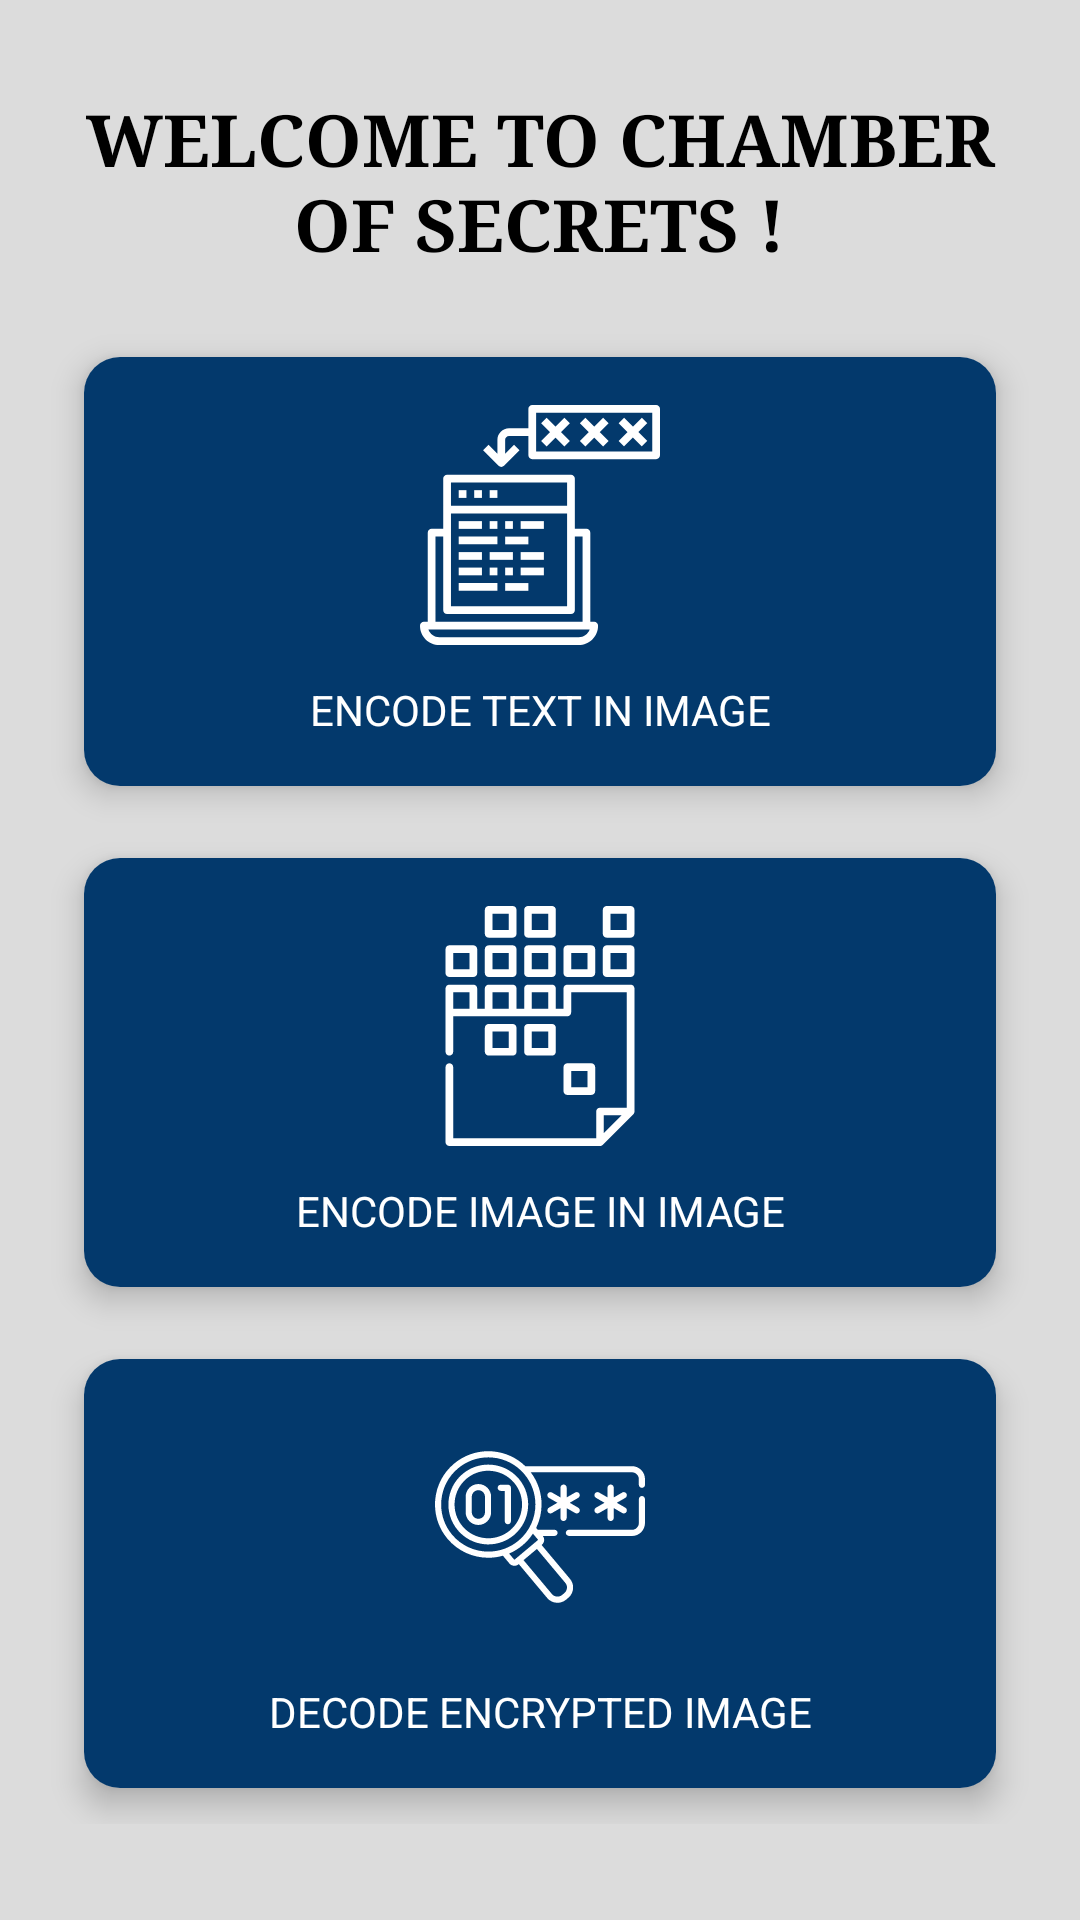

Where to tap for icons on this 1080px x 1920px app screen, as [x,y]:
encryption: [540,525]
encryption file: [540,1026]
